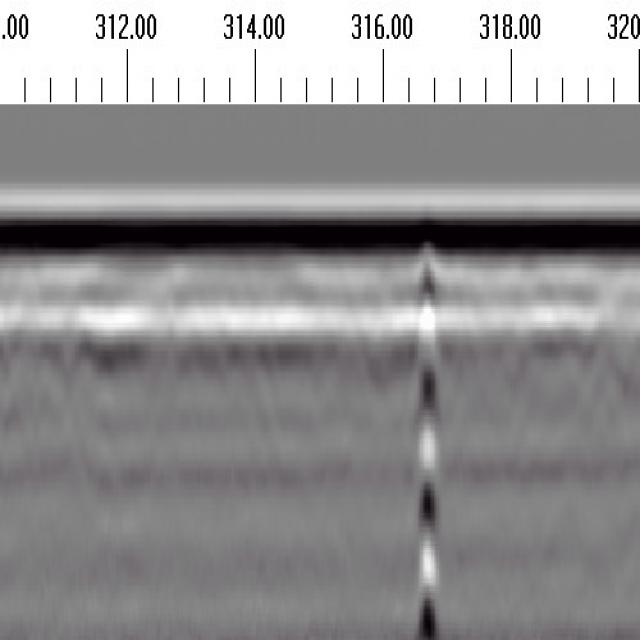crack: (412, 242, 441, 639)
